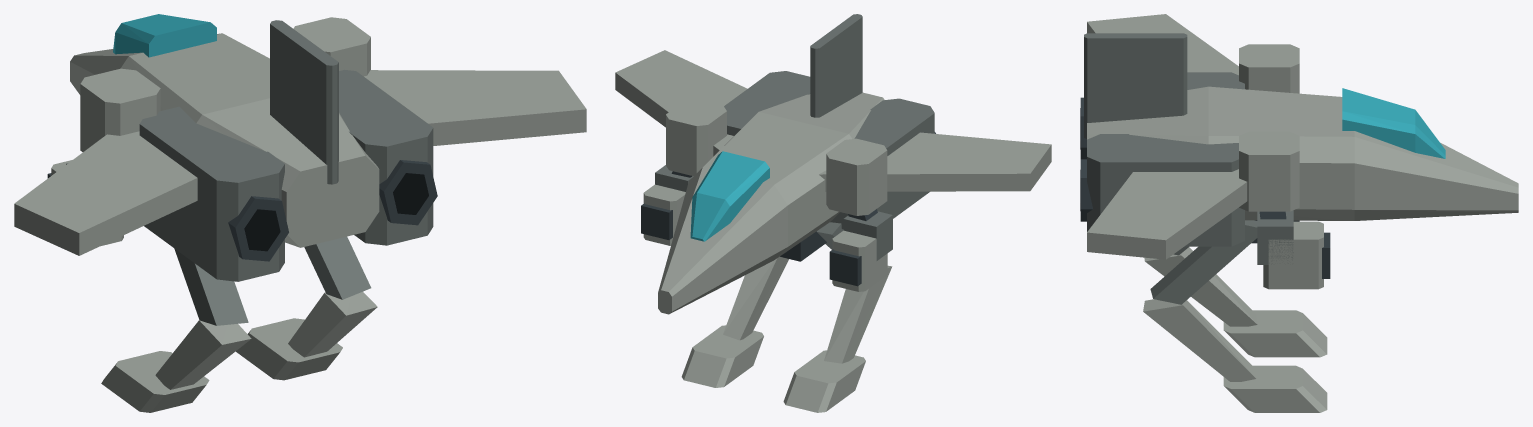
Rendered from fallback-airmek-light.glb.
3 views of the same model, side by side, from view 1: azimuth 30°, elevation 25°; view 2: azimuth 150°, elevation 25°; view 3: azimuth 270°, elevation 25° (orthographic). The views are drawn at different scales.
Visible parts, largest first — view 1: LT, CT, wing-1, RT, wing1, LA, LL-foot, LL-shin, RL-foot, HD, RL-shin, LL (+2 smaller); view 2: LT, CT, wing-1, wing1, RT, LA, HD, RA, LL-foot, RL-foot, LL-shin, RL-shin (+7 smaller); view 3: RT, CT, wing1, RA, HD, RL-shin, RL-foot, LL-foot, RA@forearm, RL, wing-1, LT (+3 smaller).
Boxes of the visible parts, box(x1,y1,x2,y2) form: LT: box(84, 52, 303, 281); CT: box(70, 20, 362, 246); wing-1: box(14, 131, 197, 255); RT: box(212, 33, 437, 245); wing1: box(364, 70, 586, 145); LA: box(80, 68, 160, 151); LL-foot: box(101, 351, 209, 412); LL-shin: box(155, 320, 251, 389); RL-foot: box(236, 318, 342, 380); HD: box(113, 14, 216, 57); RL-shin: box(288, 291, 377, 357); LL: box(174, 248, 248, 325); LT: box(714, 97, 935, 287); CT: box(658, 14, 879, 314); wing-1: box(819, 132, 1051, 191); wing1: box(615, 50, 747, 156); RT: box(669, 71, 810, 251); LA: box(826, 138, 887, 220); HD: box(690, 151, 769, 241); RA: box(666, 99, 726, 177); LL-foot: box(783, 350, 865, 412); RL-foot: box(681, 325, 763, 387); LL-shin: box(824, 265, 892, 363); RL-shin: box(723, 256, 788, 340); RT: box(1080, 123, 1459, 246); CT: box(1084, 33, 1518, 217); wing1: box(1087, 169, 1247, 259); RA: box(1239, 131, 1299, 219); HD: box(1342, 88, 1445, 158); RL-shin: box(1143, 299, 1257, 381); RL-foot: box(1223, 365, 1327, 412); LL-foot: box(1223, 310, 1327, 357); RA@forearm: box(1263, 221, 1323, 289); RL: box(1150, 220, 1257, 304); wing-1: box(1087, 14, 1238, 75); LT: box(1080, 72, 1342, 159).
Bounding box in the file's own units: 83.6 × 58.22 × 68.5.
